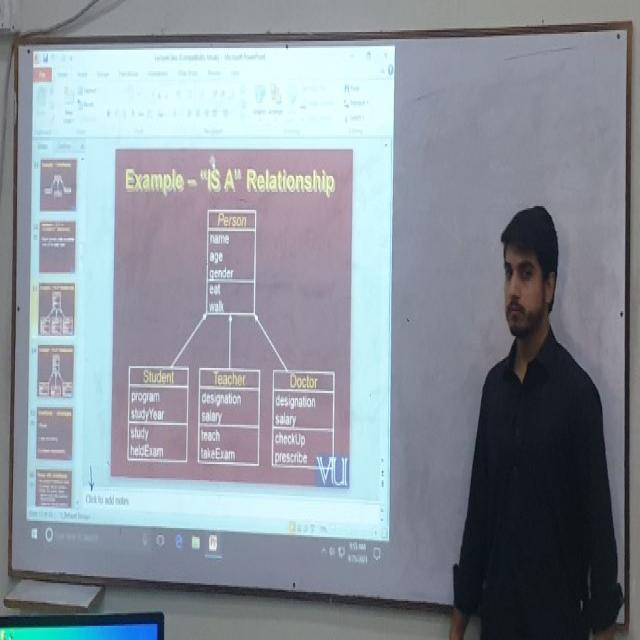Instructor: (468, 192, 612, 640)
Slide: (24, 46, 396, 575)
White-board: (10, 26, 630, 630)
